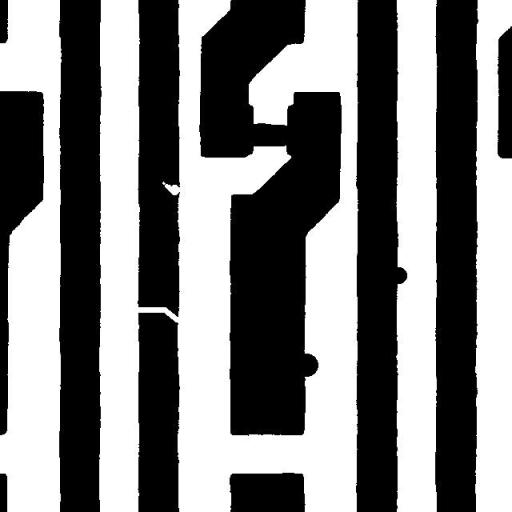mousebite: (154, 174, 188, 202)
open: (129, 300, 189, 330)
short: (234, 115, 300, 154)
spur: (287, 346, 326, 384), (382, 259, 414, 291)
